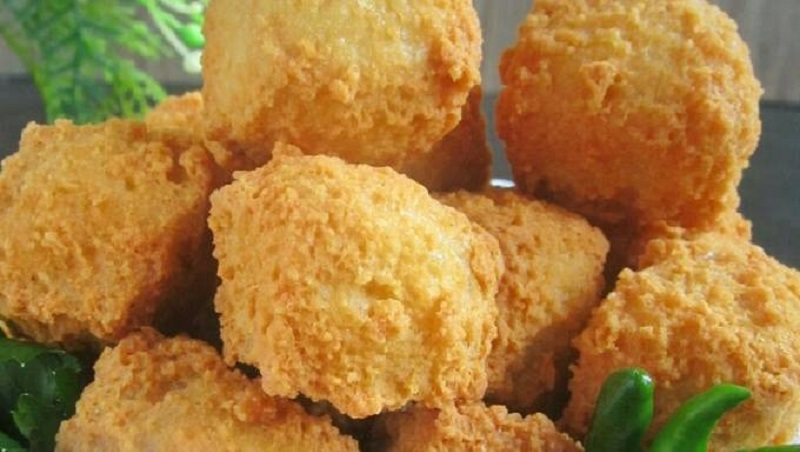Tahu: (204, 151, 485, 402), (137, 5, 497, 167), (493, 2, 772, 208), (1, 101, 226, 302), (590, 222, 794, 433), (77, 343, 350, 452)
